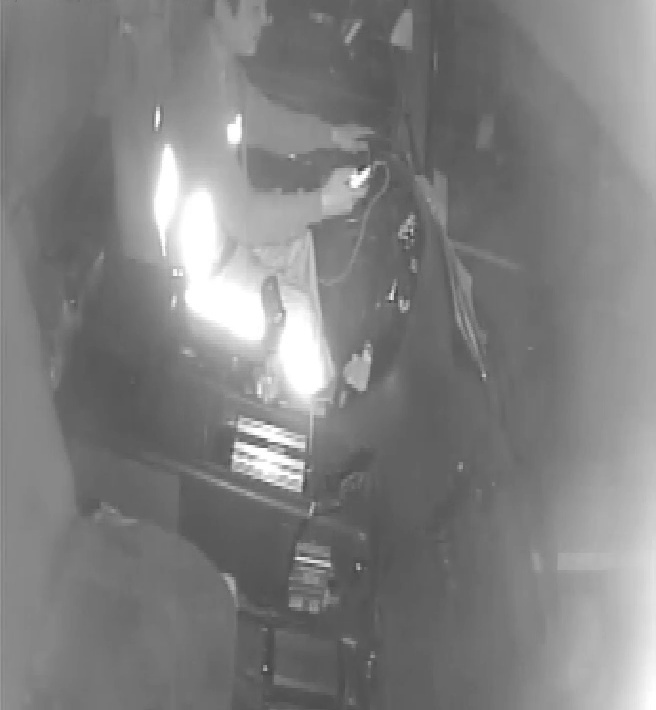cellphone: (337, 162, 377, 195)
